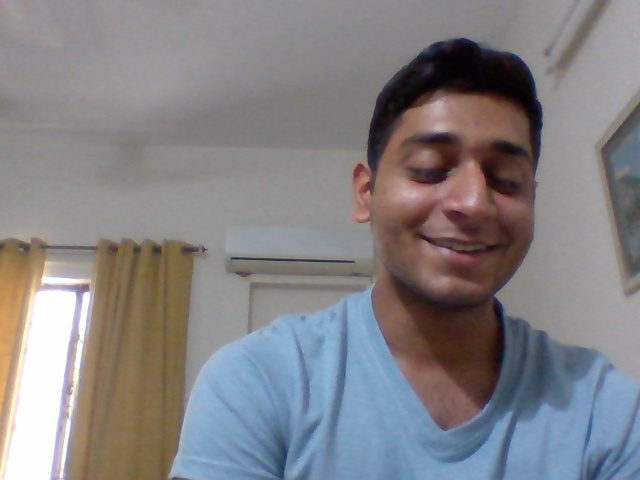happy: (380, 83, 536, 316)
